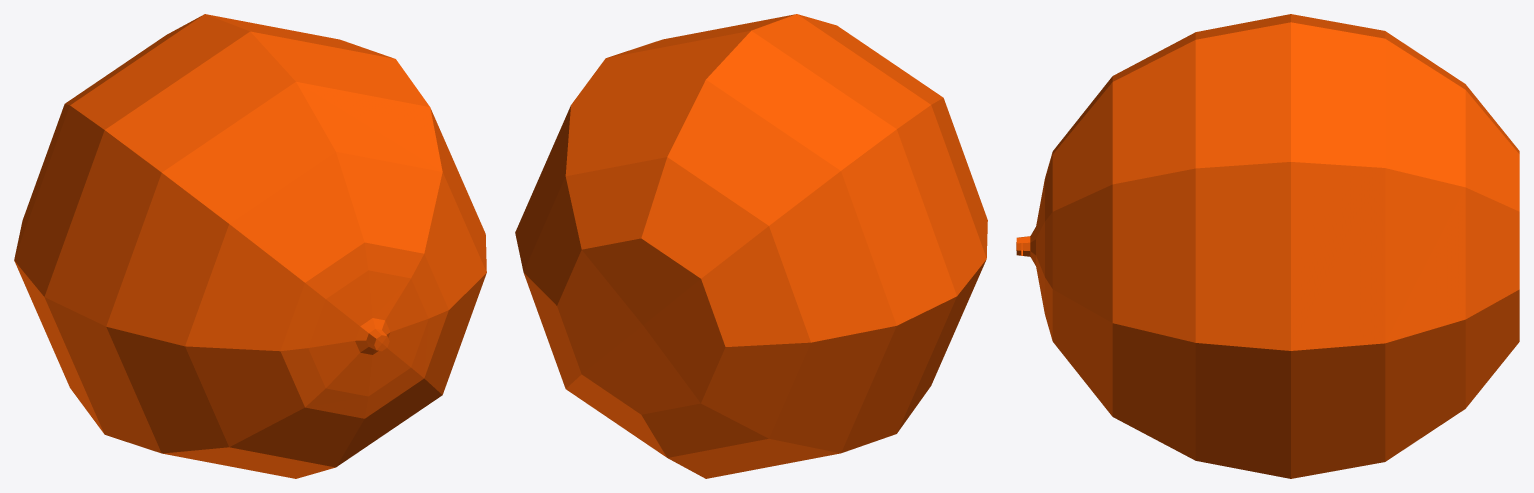
File: orange_highlight.obj
3 views of the same model, side by side, from view 1: azimuth 30°, elevation 25°; view 2: azimuth 150°, elevation 25°; view 3: azimuth 270°, elevation 25° (orthographic). The views are drawn at different scales.
Parts seen in each view (by area): view 1: Orange_0_Orange_0.001; view 2: Orange_0_Orange_0.001; view 3: Orange_0_Orange_0.001.
Boxes of the visible parts, x1,y1,x2,y2 form: Orange_0_Orange_0.001: (14, 14, 486, 478); Orange_0_Orange_0.001: (515, 14, 987, 478); Orange_0_Orange_0.001: (1016, 14, 1519, 478).
Size of the model in its own units: 0.0811 by 0.0811 by 0.0826.
